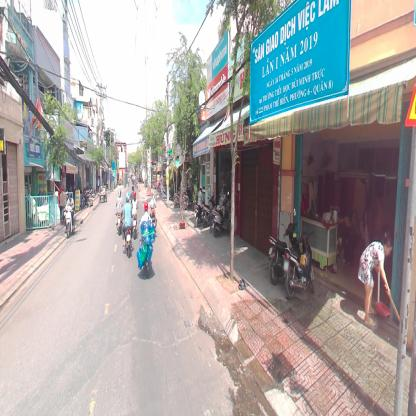Nguy hiem: (405, 76, 416, 129)
